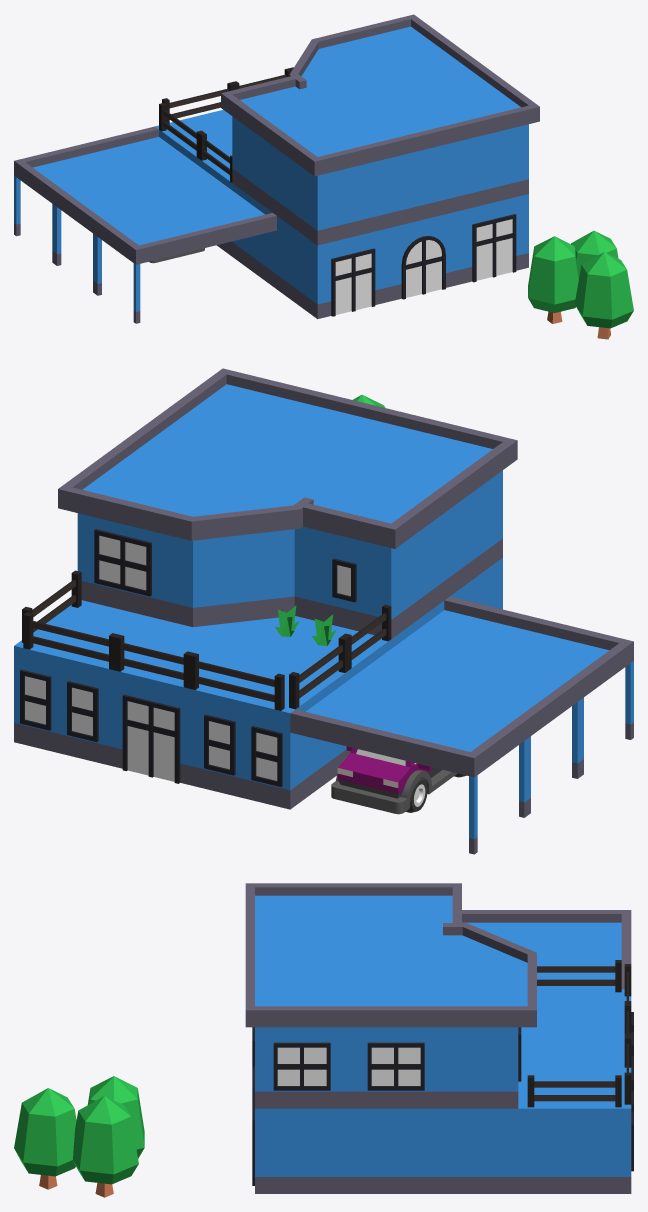
Rendered from blue_house_1.fbx.
3 views of the same model, one above another, from view 1: azimuth 30°, elevation 25°; view 2: azimuth 150°, elevation 25°; view 3: azimuth 270°, elevation 25° (orthographic). The views are drawn at different scales.
Parts seen in each view (by area): view 1: mergedBlocks; view 2: mergedBlocks; view 3: mergedBlocks.
Part boxes in pixels (bbox=[...]): mergedBlocks: bbox=[14, 14, 633, 339]; mergedBlocks: bbox=[14, 368, 633, 854]; mergedBlocks: bbox=[14, 883, 633, 1197].
Size of the model in its own units: 53.65 by 22 by 65.95.
